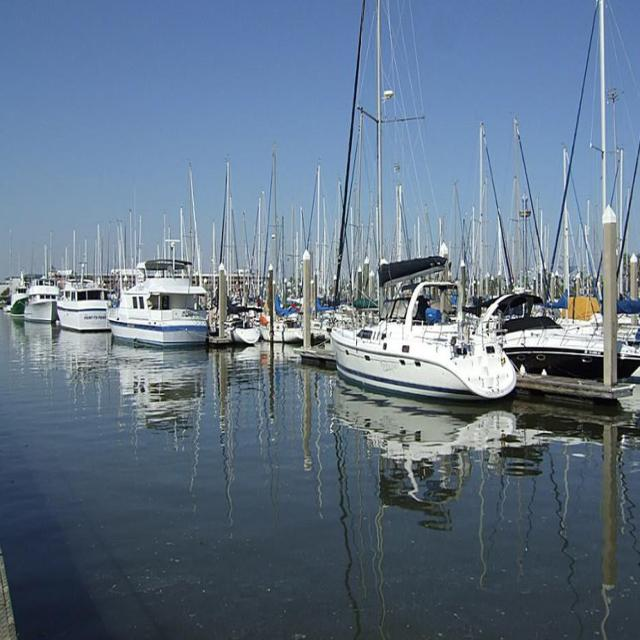houseboat: (335, 274, 529, 414), (106, 265, 211, 368), (61, 272, 108, 356), (18, 262, 57, 326)
